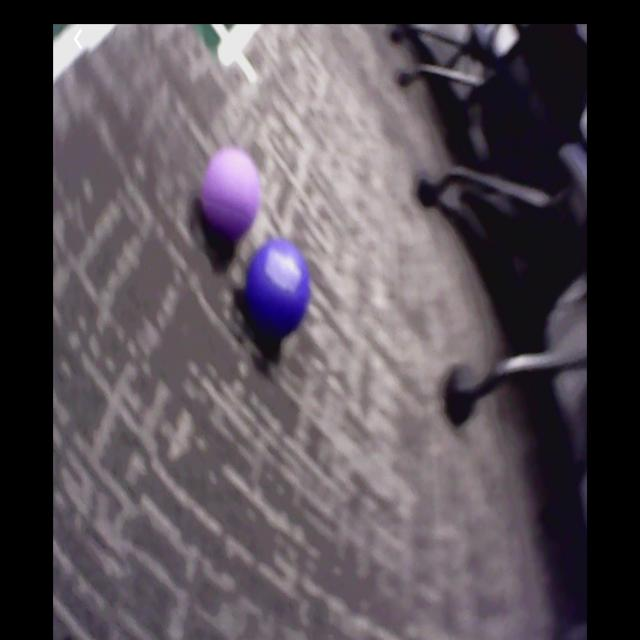ball: (245, 241, 311, 337), (203, 152, 262, 239)
